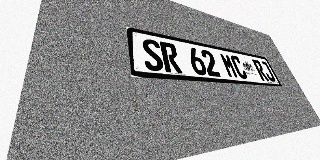2: (200, 49, 221, 77)
6: (186, 46, 208, 76)
C: (229, 55, 249, 79)
J: (259, 61, 276, 82)
M: (219, 53, 239, 78)
R: (159, 41, 182, 73), (252, 59, 269, 81)
S: (141, 37, 165, 72)
